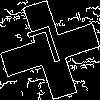L: (25, 25, 66, 77)
